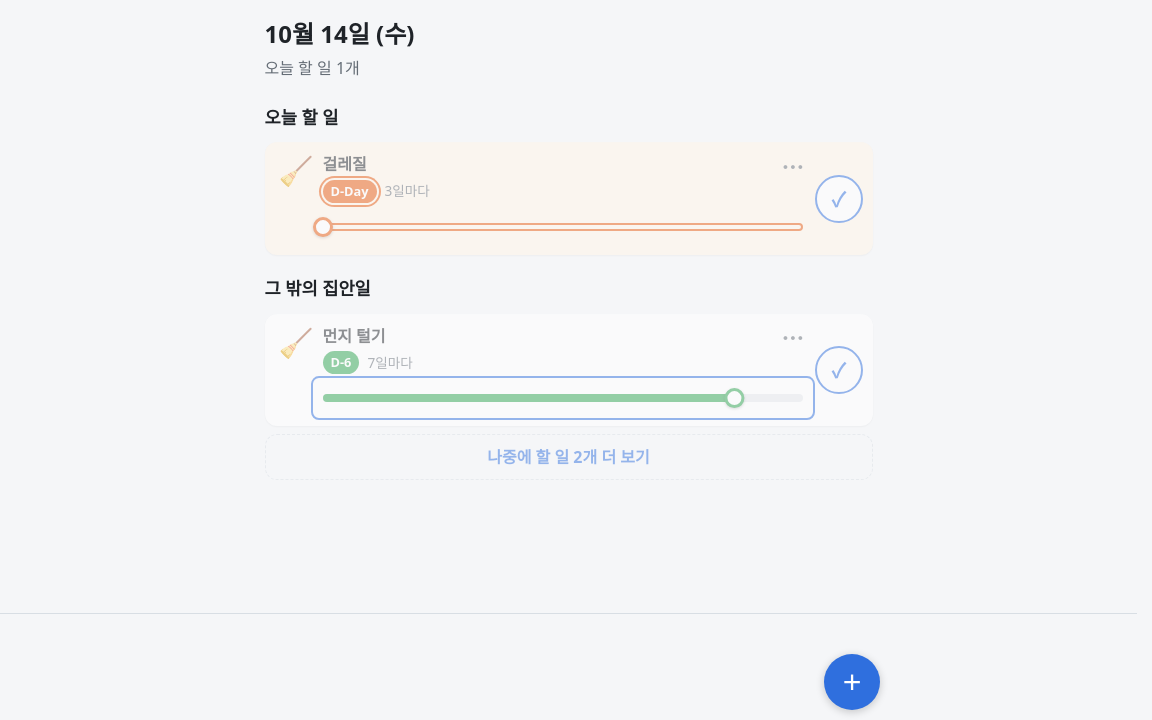
Test: 나중에 할 일 접기 (남은 일수 7일 이상) › 게이지로 7일 이상이 되면 접힌 영역으로 들어가고, 알림에 "나중에 할 일로 이동"이 붙는다. 실행 취소하면 다시 보인다
The width and height of the screenshot is (1152, 720).
Press Arrowright Enter
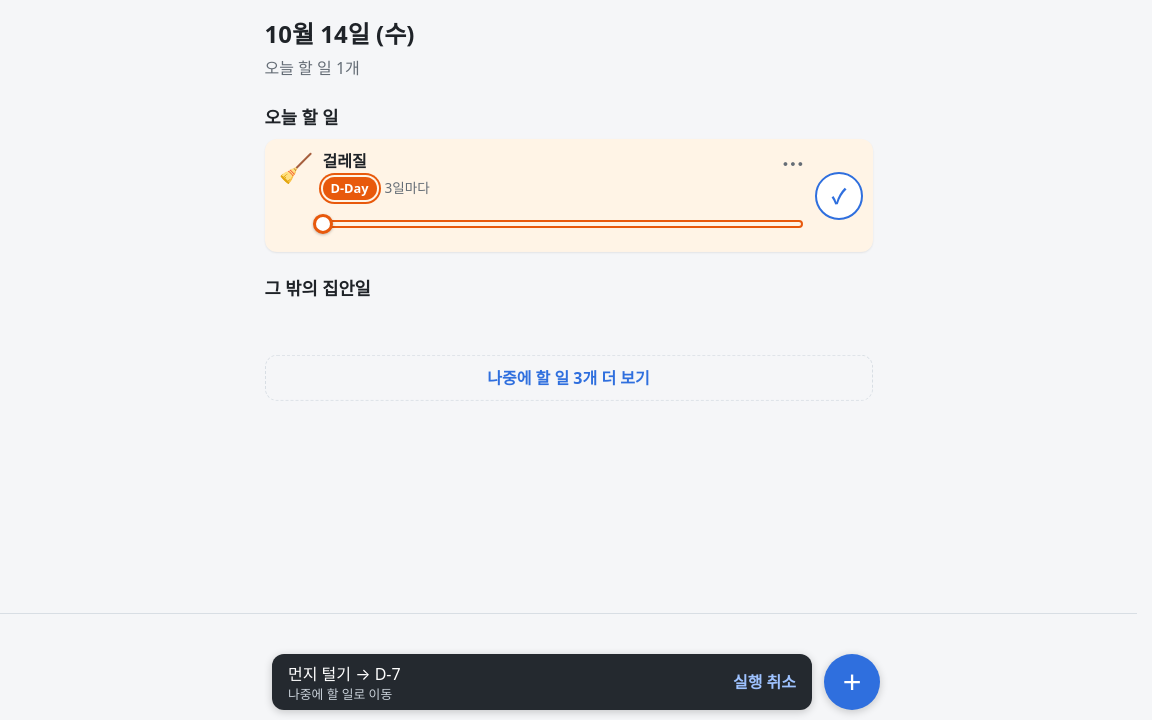
Expected: no the list item "🧹 먼지 털기 D-6 7일마다 ⋯ ✓" are shown
Expected: the button "나중에 할 일 3개 더 보기" is shown, [264,343,872,389]
Expected: the text "나중에 할 일 3개 더 보기" is shown, [487,354,650,378]
Click the button "실행 취소" at (764, 682), box [721,660,808,704]
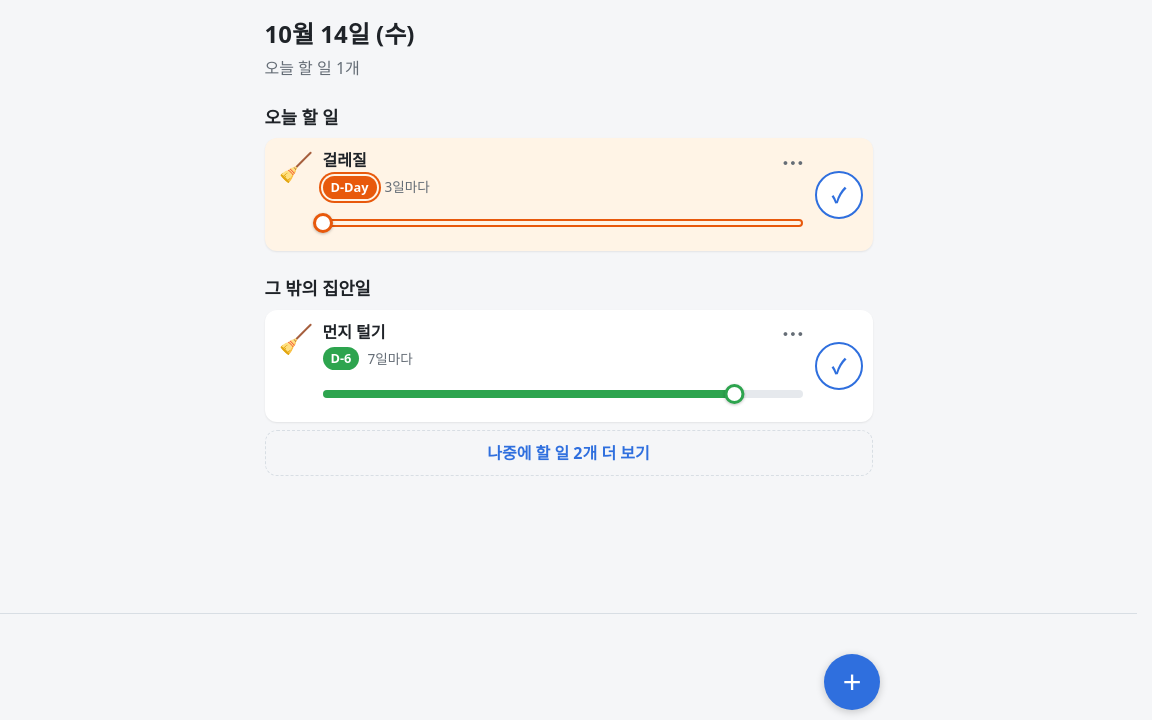
Expected: the button "나중에 할 일 2개 더 보기" is shown, [264,430,872,476]
